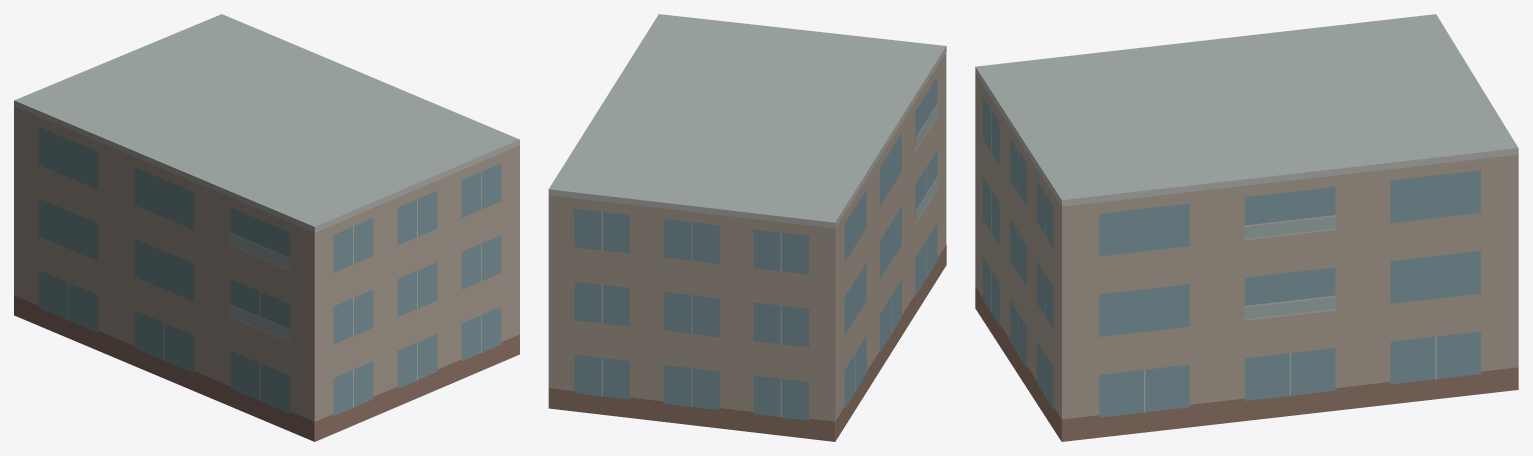
Rendered from survey-upis-32711241.glb.
3 views of the same model, side by side, from view 1: azimuth 30°, elevation 25°; view 2: azimuth 150°, elevation 25°; view 3: azimuth 270°, elevation 25° (orthographic). The views are drawn at different scales.
Visible parts, largest first — view 1: survey-upis-32711241.tmp; view 2: survey-upis-32711241.tmp; view 3: survey-upis-32711241.tmp.
Boxes of the visible parts, x1,y1,x2,y2 form: survey-upis-32711241.tmp: (14,14,519,441); survey-upis-32711241.tmp: (548,14,946,441); survey-upis-32711241.tmp: (975,14,1518,441).
Size of the model in its own units: 15.13 by 9.15 by 18.65.
